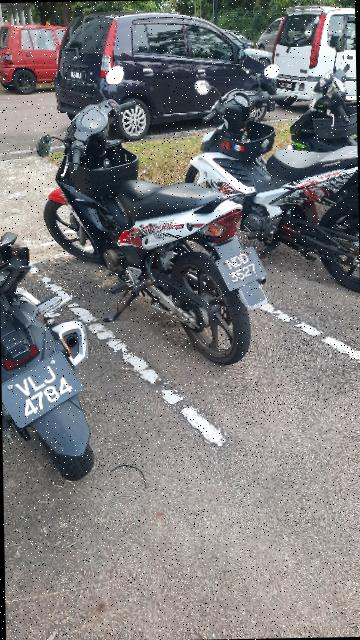License_Plate: (2, 351, 86, 430), (217, 245, 268, 292)
car: (51, 5, 279, 140), (258, 1, 358, 111), (1, 17, 111, 96)
motorcycle: (22, 56, 273, 377), (179, 57, 360, 297), (1, 204, 116, 484)
